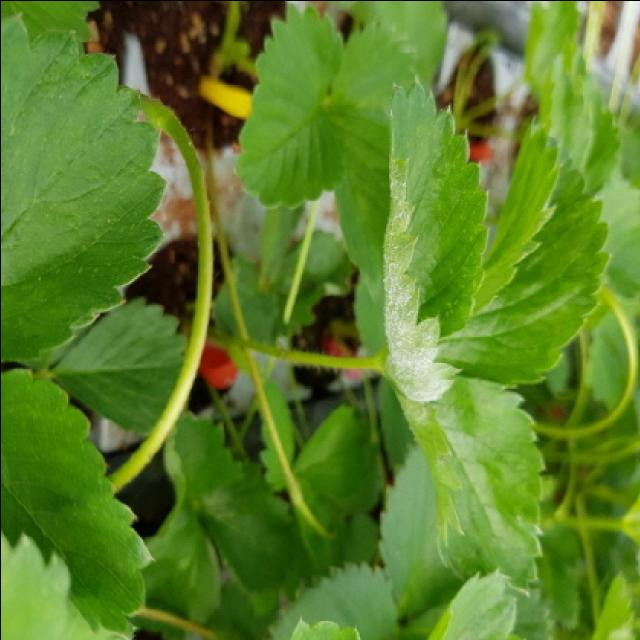Powdery Mildew Leaf: (380, 75, 490, 404)
